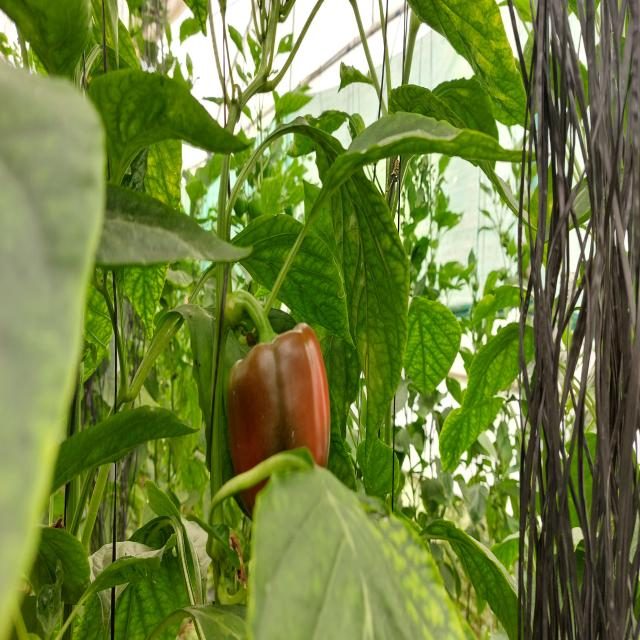Red-Ready-to-Harvest: (225, 325, 333, 532)
